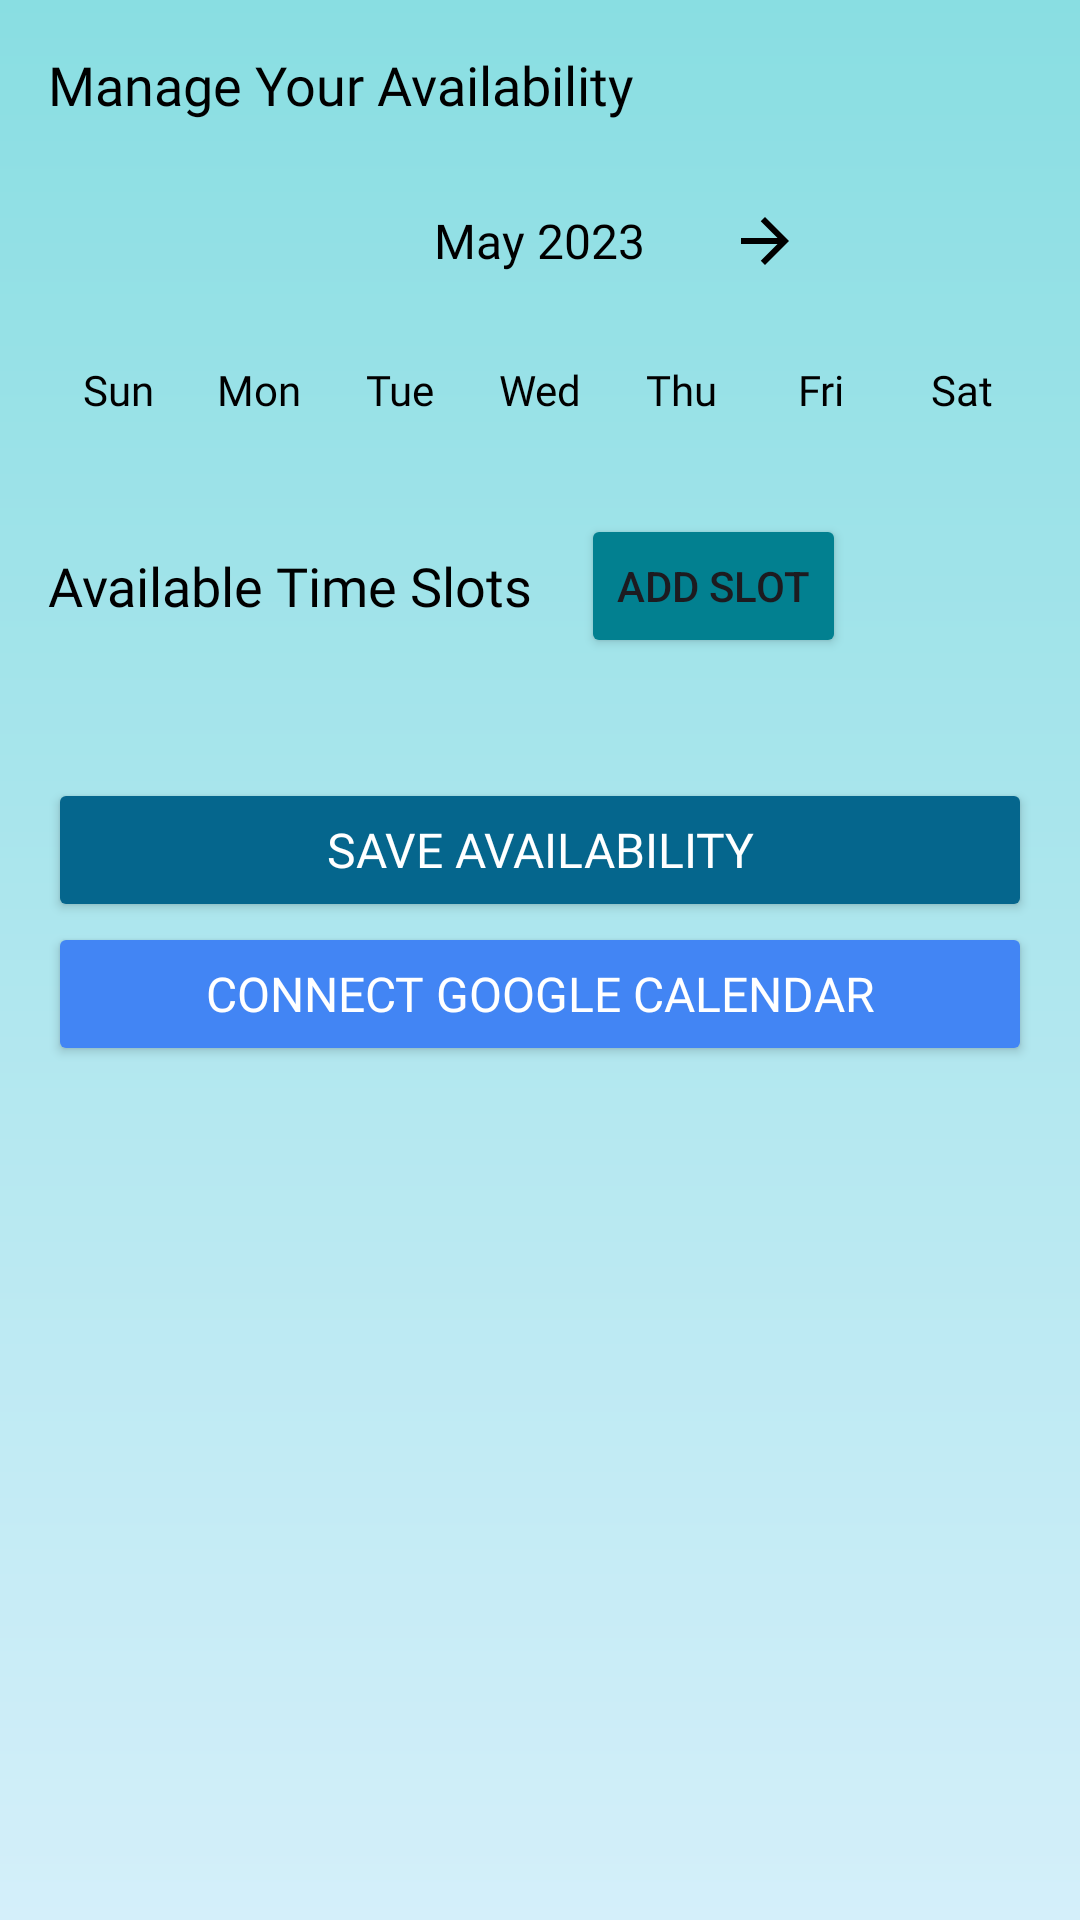

Named icons in this screenshot (1080 x 1920) and their bounding boxes, (x1, y1, x2, y2):
arrow right: (741, 217, 789, 265)
